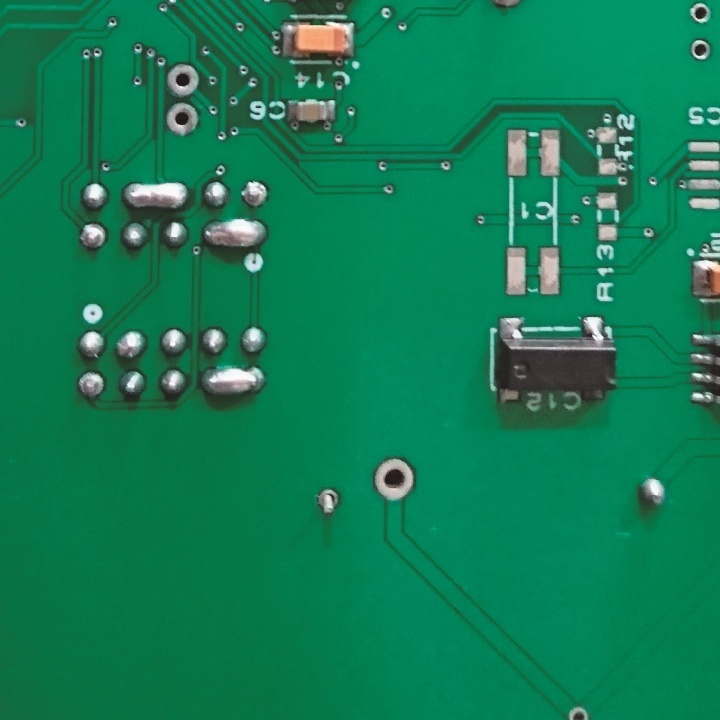F: (370, 454, 417, 504), (163, 58, 204, 100), (164, 99, 201, 138), (239, 179, 275, 210), (76, 368, 108, 401), (78, 220, 111, 249), (313, 486, 340, 518), (684, 1, 715, 28), (688, 37, 713, 63), (561, 703, 591, 720)
P: (199, 218, 270, 254), (122, 178, 190, 213), (199, 366, 268, 397)
